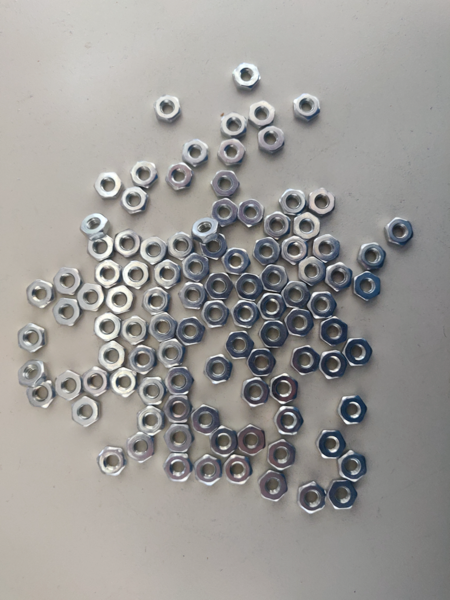nut: (97, 446, 127, 478), (190, 406, 220, 438), (343, 338, 373, 369), (357, 242, 387, 273), (259, 470, 288, 502), (297, 482, 326, 514), (329, 479, 358, 511), (317, 429, 346, 461), (338, 395, 367, 427), (192, 454, 221, 486), (224, 454, 253, 486), (199, 231, 229, 261), (337, 451, 366, 482), (353, 271, 382, 302), (267, 440, 296, 471), (25, 279, 54, 310), (81, 366, 110, 397), (75, 282, 104, 313), (203, 353, 232, 384), (127, 432, 156, 463), (121, 260, 150, 291), (274, 406, 303, 437), (325, 262, 354, 293), (93, 312, 122, 342), (109, 367, 138, 397), (18, 323, 47, 353), (137, 406, 166, 436), (232, 63, 262, 92), (209, 427, 239, 456), (320, 316, 349, 346), (98, 341, 126, 372), (54, 370, 82, 401), (148, 312, 176, 343), (176, 315, 204, 346), (242, 377, 270, 408), (292, 345, 320, 376), (318, 348, 346, 379), (284, 307, 312, 338), (164, 425, 195, 453), (130, 344, 158, 375), (72, 397, 100, 427), (165, 366, 193, 396), (165, 454, 193, 484), (270, 375, 298, 405), (236, 199, 264, 229), (81, 212, 111, 240), (386, 217, 413, 248), (205, 272, 233, 301), (114, 229, 142, 258), (210, 171, 239, 199), (140, 236, 168, 265), (285, 308, 314, 336), (143, 287, 171, 316), (225, 330, 252, 360), (253, 237, 280, 267), (223, 247, 250, 277), (298, 256, 325, 286), (232, 299, 259, 329), (202, 299, 229, 329), (154, 260, 181, 290), (239, 425, 266, 455), (165, 163, 193, 191), (106, 286, 134, 314), (18, 360, 46, 388), (94, 171, 123, 198), (178, 281, 205, 310), (120, 187, 149, 214), (308, 187, 335, 216), (54, 266, 81, 295), (138, 376, 165, 405), (131, 160, 158, 188), (167, 232, 195, 259), (260, 320, 287, 348), (193, 217, 221, 244), (261, 266, 290, 292), (309, 292, 338, 318), (158, 339, 184, 368), (258, 126, 285, 153), (314, 235, 341, 262), (260, 293, 287, 320), (87, 233, 113, 261), (155, 95, 181, 123), (182, 139, 208, 167), (295, 93, 321, 121), (27, 381, 53, 409), (282, 281, 310, 307), (218, 139, 245, 165), (294, 212, 321, 238), (122, 317, 148, 344), (55, 299, 80, 327), (279, 189, 307, 214), (282, 236, 307, 264), (248, 350, 276, 375), (184, 253, 209, 281), (97, 259, 121, 287), (222, 112, 248, 137), (236, 273, 261, 299), (167, 398, 193, 423), (211, 200, 238, 224), (250, 102, 275, 126), (266, 213, 291, 237)
